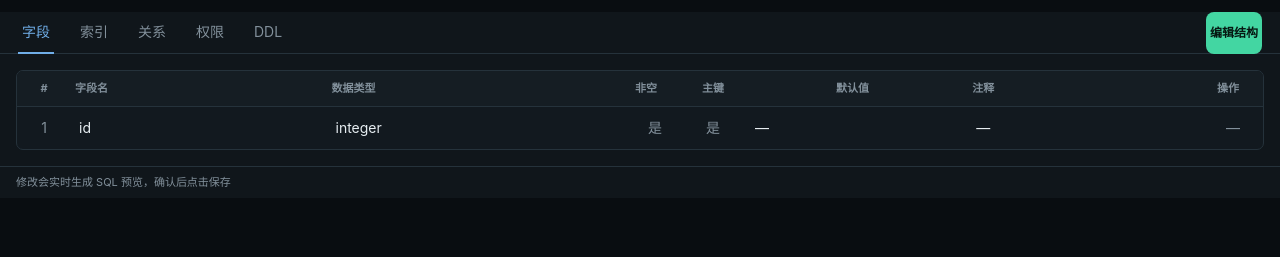
discards draft changes and returns to read-only mode
Click the button "编辑结构": (1234, 32) [1206,12,1262,54]
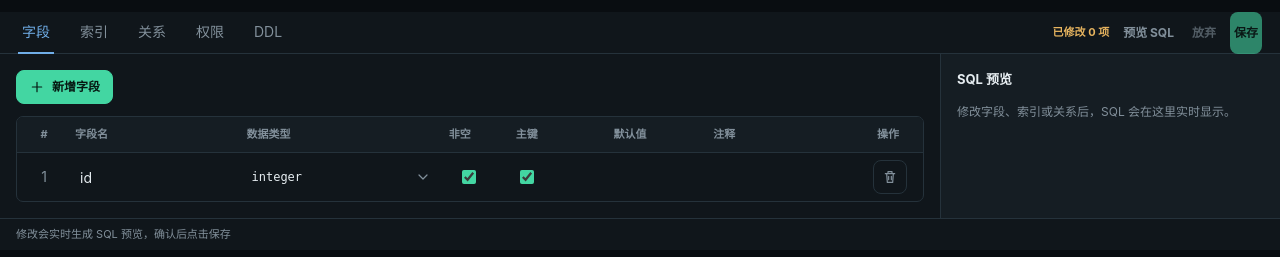
Replace the text in the field named "字段名 1" with "person_id": (152, 177) [71,161,232,193]
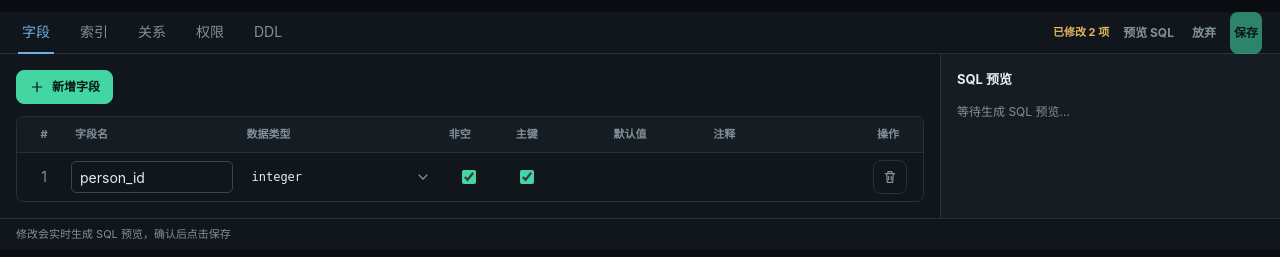
Check: the text "已修改 2 项" is shown, box [1053,24,1109,40]
Click the button "放弃": (1204, 32) [1188,12,1220,54]
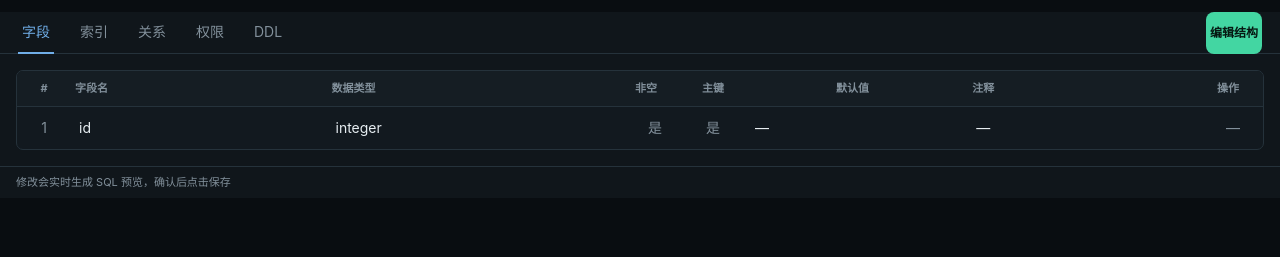
Check: the text "id" is shown, box [79,119,91,136]
